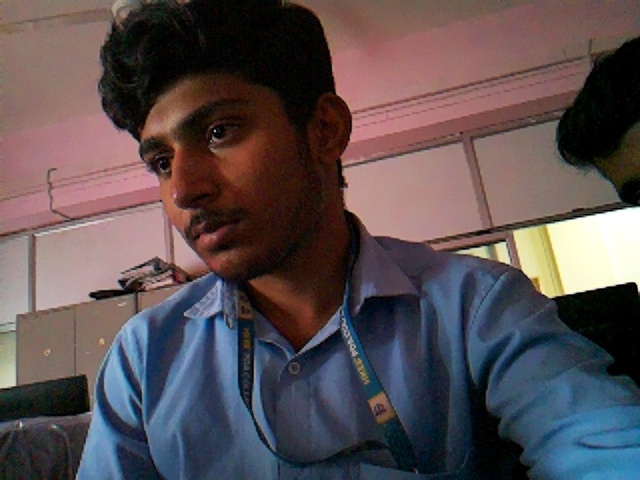Vaibhav: (96, 3, 353, 287)
